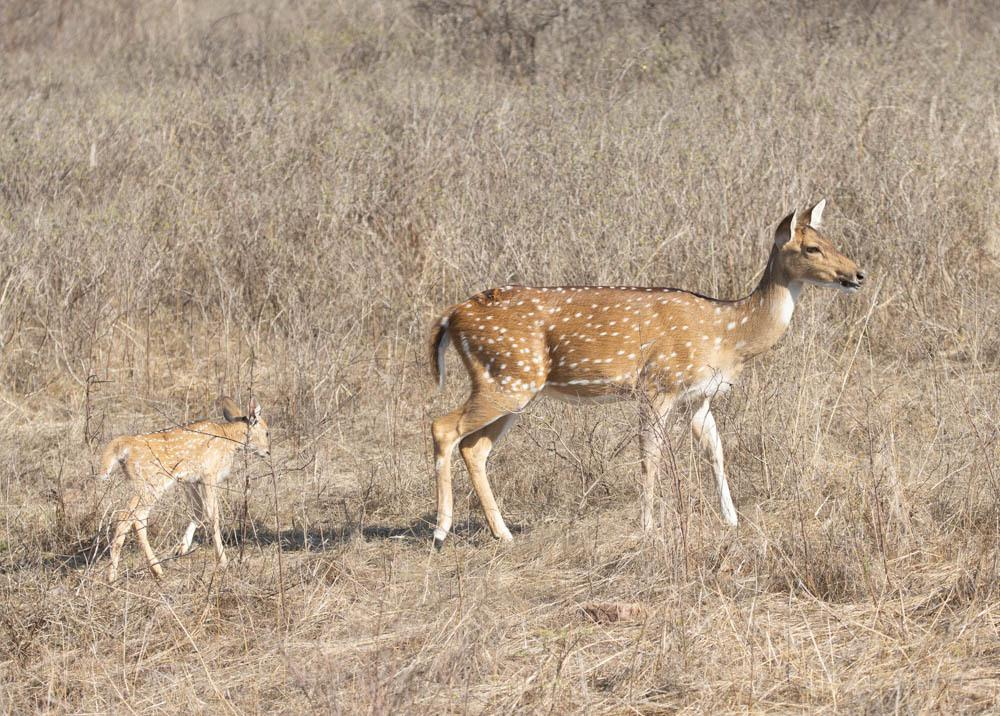Deer: (431, 200, 865, 545), (98, 398, 268, 581)
